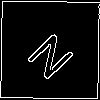N: (25, 25, 84, 83)
